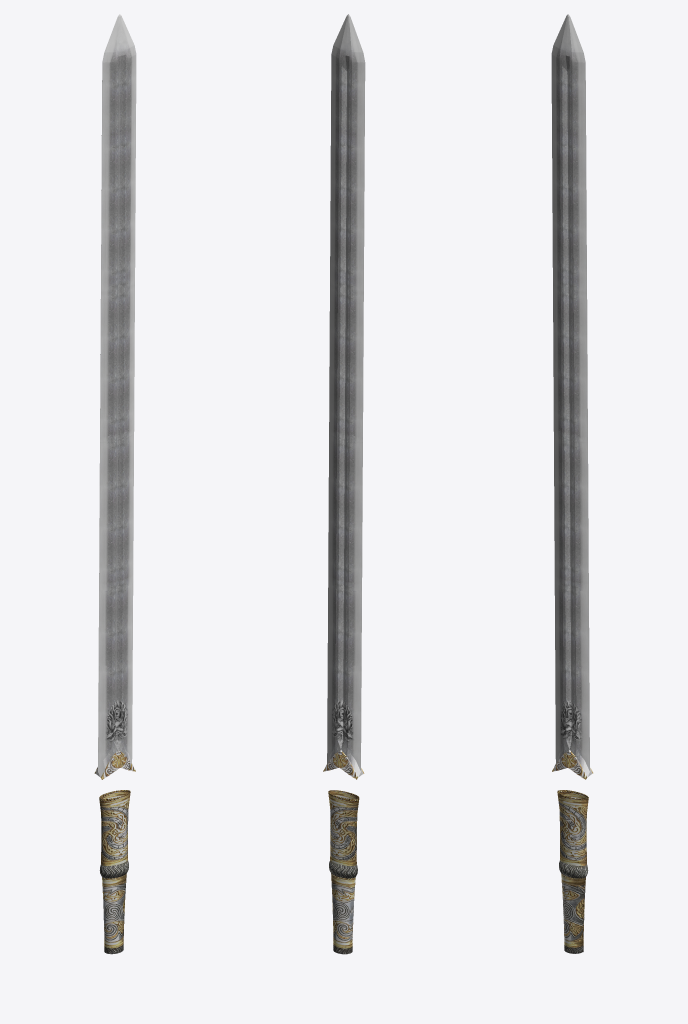
Rendered from Long_Sword.fbx.
3 renders of one model, left to right at view 1: azimuth 30°, elevation 25°; view 2: azimuth 150°, elevation 25°; view 3: azimuth 330°, elevation 25°, orthographic.
Parts seen in each view (by area): view 1: Long_Sword; view 2: Long_Sword; view 3: Long_Sword.
Boxes of the visible parts, x1,y1,x2,y2 form: Long_Sword: (94,14,136,954); Long_Sword: (323,14,365,954); Long_Sword: (551,14,593,953).
Size of the model in its own units: 140 by 681 by 23.28.
1 material, 1 textured.
